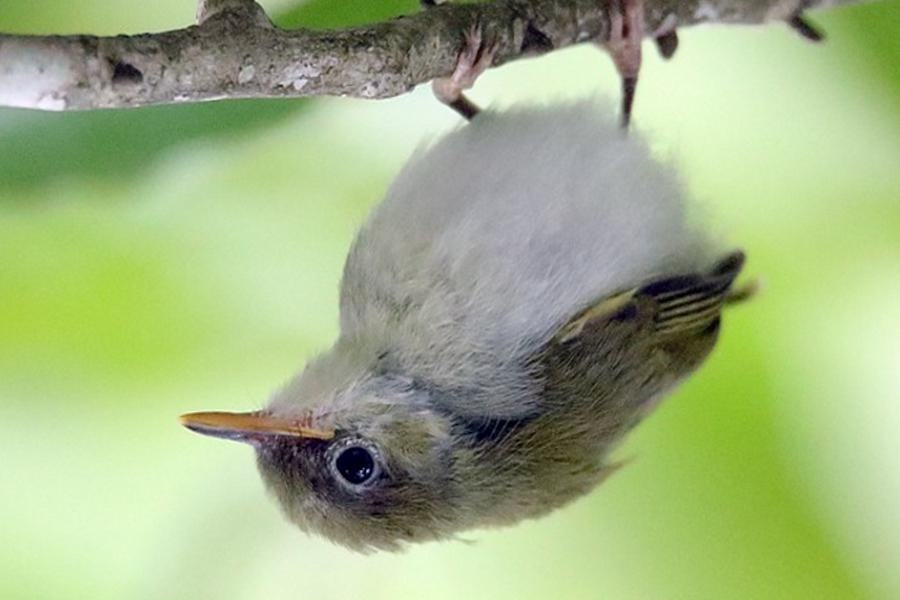tailorbird: (205, 58, 742, 576)
